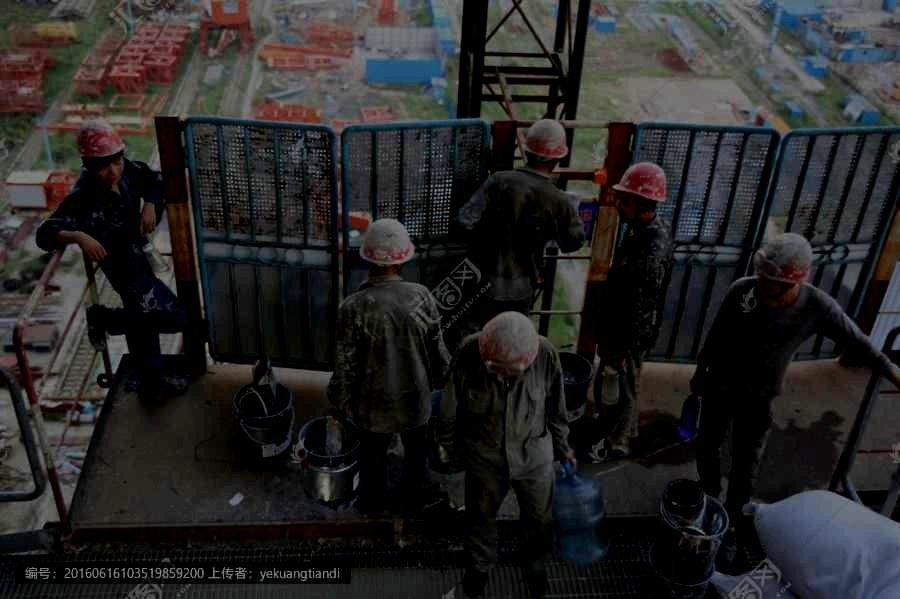helmet: (478, 310, 540, 377), (754, 233, 813, 301), (612, 160, 667, 224), (75, 119, 126, 185), (359, 217, 415, 275), (522, 118, 569, 174)
